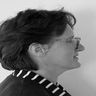ear: (25, 38, 51, 62)
